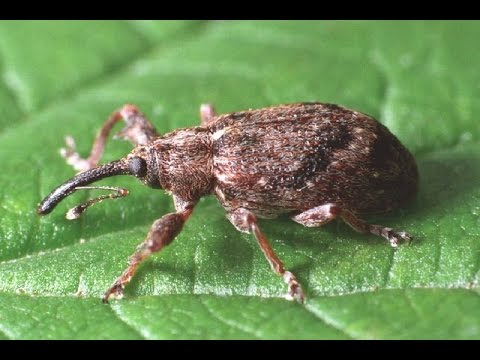dolgonosik: (36, 104, 425, 309)
